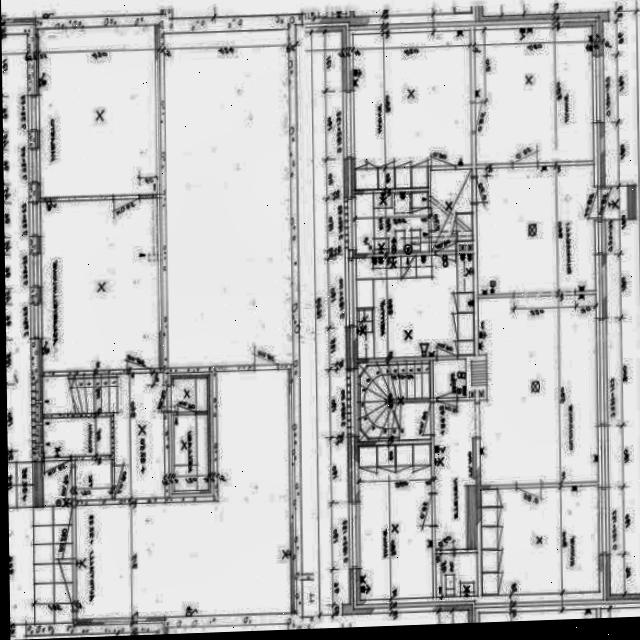room: (73, 370, 290, 619), (163, 30, 293, 368), (477, 295, 597, 486), (40, 198, 159, 372), (38, 25, 156, 198), (352, 31, 471, 190), (473, 27, 592, 164), (474, 166, 598, 294), (478, 486, 600, 595), (353, 254, 475, 359), (358, 444, 432, 600), (433, 400, 476, 550), (353, 192, 429, 254), (430, 170, 472, 252), (173, 414, 207, 491), (435, 553, 476, 597), (432, 359, 465, 398), (170, 379, 206, 412)
